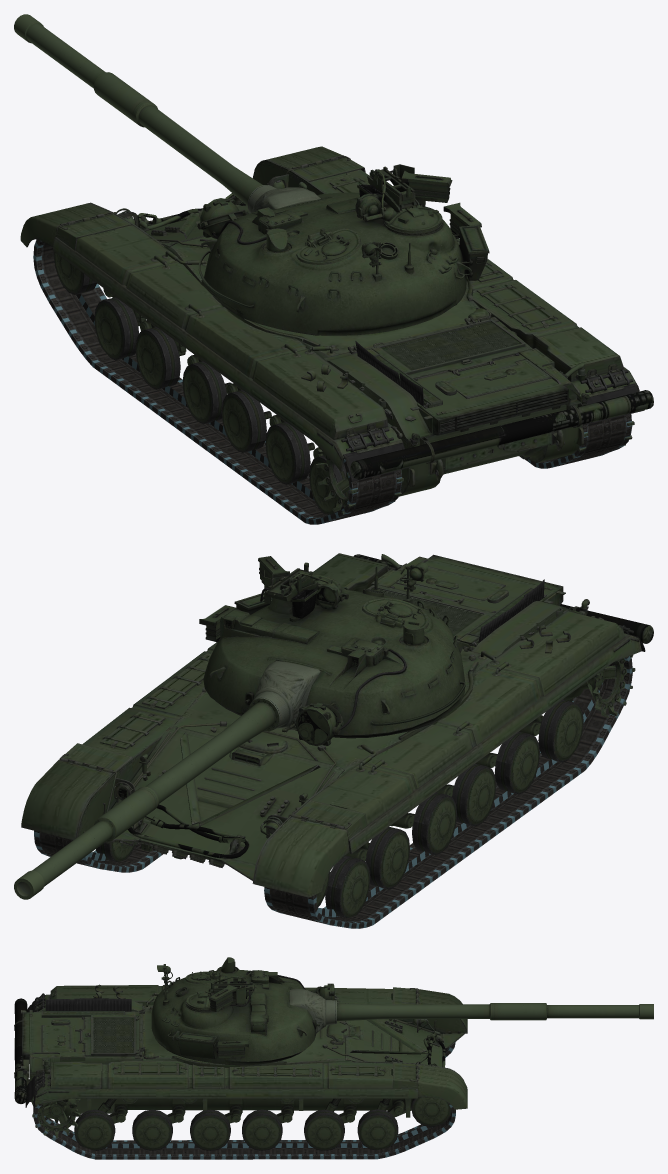
3 renders of one model, top to bottom at view 1: azimuth 30°, elevation 25°; view 2: azimuth 150°, elevation 25°; view 3: azimuth 270°, elevation 25°, orthographic. The views are drawn at different scales.
Visible parts, largest first — view 1: V_t64__Body_1, V_t64__Turret_1, V_t64__Body_2, V_t64__Gun_1, V_t64__W09_1, V_t64__W07_1, V_t64__W03_1, V_t64__W01_1, V_t64__W05_1, V_t64__Body_3, V_t64__W11_1, V_t64__W13_1; view 2: V_t64__Body_1, V_t64__Turret_1, V_t64__Body_2, V_t64__Gun_1, V_t64__W09_1, V_t64__W11_1, V_t64__W05_1, V_t64__W01_1, V_t64__W03_1, V_t64__W07_1, V_t64__Body_3, V_t64__W15_1 (+1 smaller); view 3: V_t64__Body_1, V_t64__Turret_1, V_t64__Body_2, V_t64__Gun_1, V_t64__Body_3, V_t64__W08_1, V_t64__W04_1, V_t64__W10_1, V_t64__W06_1, V_t64__W02_1, V_t64__W12_1, V_t64__W14_1 (+1 smaller).
Part boxes in pixels (x1,y1,x2,y2): V_t64__Body_1: (20, 146, 653, 496); V_t64__Turret_1: (197, 164, 489, 335); V_t64__Body_2: (33, 239, 632, 524); V_t64__Gun_1: (14, 14, 320, 213); V_t64__W09_1: (265, 422, 310, 484); V_t64__W07_1: (221, 390, 266, 452); V_t64__W03_1: (135, 327, 180, 389); V_t64__W01_1: (94, 297, 138, 360); V_t64__W05_1: (182, 361, 226, 423); V_t64__Body_3: (103, 288, 634, 514); V_t64__W11_1: (309, 455, 349, 514); V_t64__W13_1: (53, 252, 96, 294); V_t64__Body_1: (21, 553, 653, 897); V_t64__Turret_1: (199, 556, 470, 745); V_t64__Body_2: (34, 656, 632, 928); V_t64__Gun_1: (14, 660, 320, 899); V_t64__W09_1: (494, 731, 539, 794); V_t64__W11_1: (538, 699, 583, 762); V_t64__W05_1: (412, 792, 456, 855); V_t64__W01_1: (325, 855, 370, 918); V_t64__W03_1: (365, 826, 409, 889); V_t64__W07_1: (452, 763, 496, 826); V_t64__Body_3: (140, 655, 635, 872); V_t64__W15_1: (563, 660, 623, 708); V_t64__Body_1: (14, 984, 467, 1116); V_t64__Turret_1: (151, 957, 334, 1065); V_t64__Body_2: (33, 1042, 455, 1159); V_t64__Gun_1: (289, 988, 653, 1033); V_t64__Body_3: (32, 1098, 411, 1138); V_t64__W08_1: (190, 1109, 230, 1150); V_t64__W04_1: (304, 1109, 344, 1150); V_t64__W10_1: (132, 1109, 172, 1150); V_t64__W06_1: (242, 1109, 282, 1150); V_t64__W02_1: (357, 1109, 398, 1150); V_t64__W12_1: (74, 1109, 115, 1150); V_t64__W14_1: (411, 1097, 451, 1127).
Bounding box in the file's own units: 9.22 × 6.73 × 25.76.
5 materials, 5 textured.
